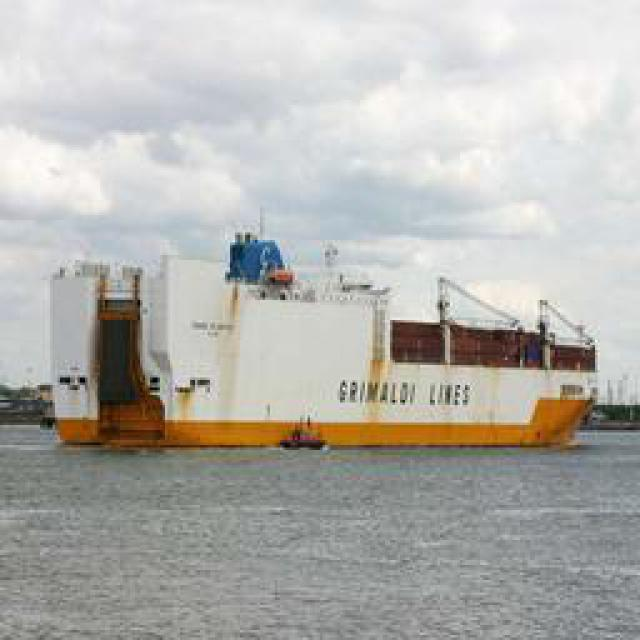Ship: (94, 243, 599, 451)
